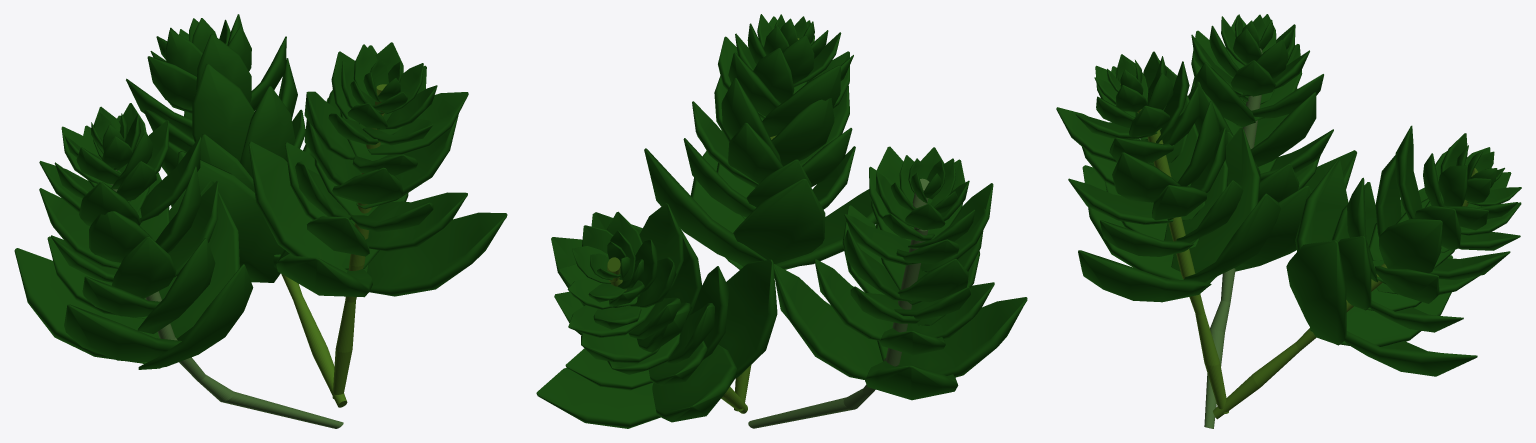
Rendered from redspot stonecrop.glb.
3 renders of one model, left to right at view 1: azimuth 30°, elevation 25°; view 2: azimuth 150°, elevation 25°; view 3: azimuth 270°, elevation 25°, orthographic. The views are drawn at different scales.
Visible parts, largest first — view 1: Cube.033, Cube.035, Cube.068, Cube.106, Cube.056, Cube.104, Cube.107, Cube.105, Cube.100, Cube.032, Cube.096, Cube.061 (+51 smaller); view 2: Cube.105, Cube.035, Cube.068, Cube.070, Cube.107, Cube.034, Cube.071, Cylinder.002, Cube.023, Cube.106, Cube.101, Cube.016 (+60 smaller); view 3: Cube.069, Cube.035, Cube.033, Cube.057, Cube.034, Cube.068, Cube.070, Cylinder, Cube.071, Cube.105, Cube.021, Cube.093 (+58 smaller).
Part boxes in pixels (bbox=[...]): Cube.033: bbox=[367, 212, 507, 296]; Cube.035: bbox=[248, 141, 367, 272]; Cube.068: bbox=[171, 151, 283, 282]; Cube.106: bbox=[14, 248, 159, 363]; Cube.056: bbox=[192, 64, 254, 161]; Cube.104: bbox=[138, 264, 253, 369]; Cube.107: bbox=[64, 304, 181, 362]; Cube.105: bbox=[170, 181, 239, 338]; Cube.100: bbox=[137, 238, 215, 333]; Cube.032: bbox=[276, 253, 372, 297]; Cube.096: bbox=[112, 236, 176, 298]; Cube.061: bbox=[239, 86, 295, 178]; Cube.105: bbox=[773, 264, 882, 379]; Cube.035: bbox=[733, 178, 825, 266]; Cube.068: bbox=[718, 259, 777, 378]; Cube.070: bbox=[536, 367, 660, 428]; Cube.107: bbox=[899, 297, 1027, 377]; Cube.034: bbox=[644, 148, 766, 265]; Cube.071: bbox=[652, 344, 737, 422]; Cylinder.002: bbox=[748, 178, 929, 428]; Cube.023: bbox=[771, 98, 834, 166]; Cube.106: bbox=[865, 360, 958, 400]; Cube.101: bbox=[814, 259, 893, 340]; Cube.016: bbox=[762, 65, 840, 137]; Cube.069: bbox=[1286, 240, 1346, 345]; Cube.035: bbox=[1171, 128, 1260, 288]; Cube.033: bbox=[1078, 250, 1211, 302]; Cube.057: bbox=[1379, 218, 1442, 273]; Cube.034: bbox=[1183, 193, 1280, 282]; Cube.068: bbox=[1295, 160, 1348, 251]; Cube.070: bbox=[1344, 331, 1477, 376]; Cylinder: bbox=[1120, 84, 1228, 413]; Cube.071: bbox=[1310, 292, 1451, 346]; Cube.105: bbox=[1234, 185, 1311, 271]; Cube.021: bbox=[1112, 152, 1180, 202]; Cube.093: bbox=[1251, 92, 1316, 166].
Bounding box in the file's own units: 10.05 × 10.1 × 11.4.
